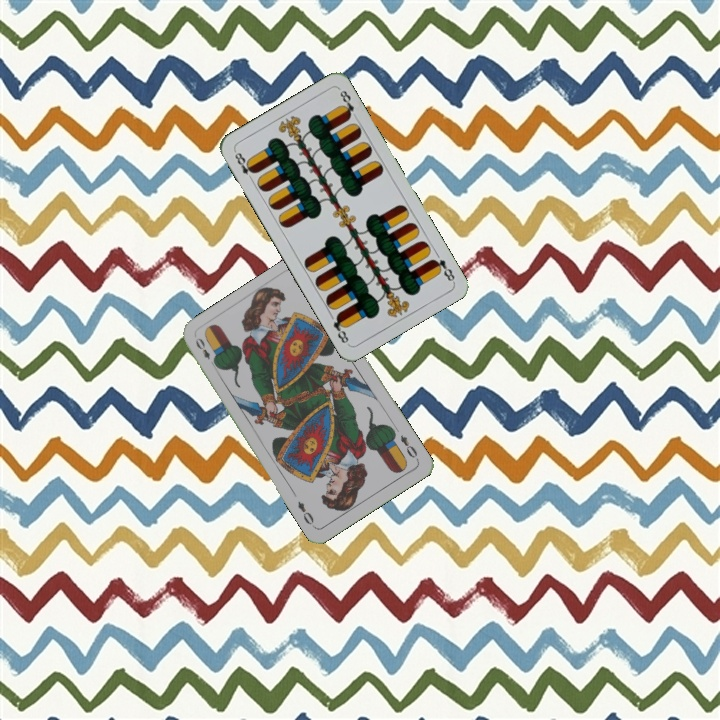E8: (230, 147, 258, 184), (427, 255, 457, 285)
EO: (191, 334, 219, 370), (396, 431, 421, 463)
